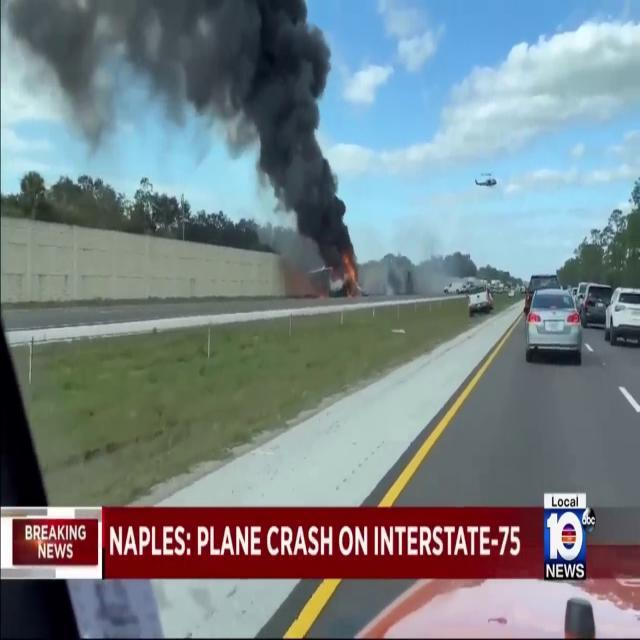Smoke: (9, 0, 352, 267)
